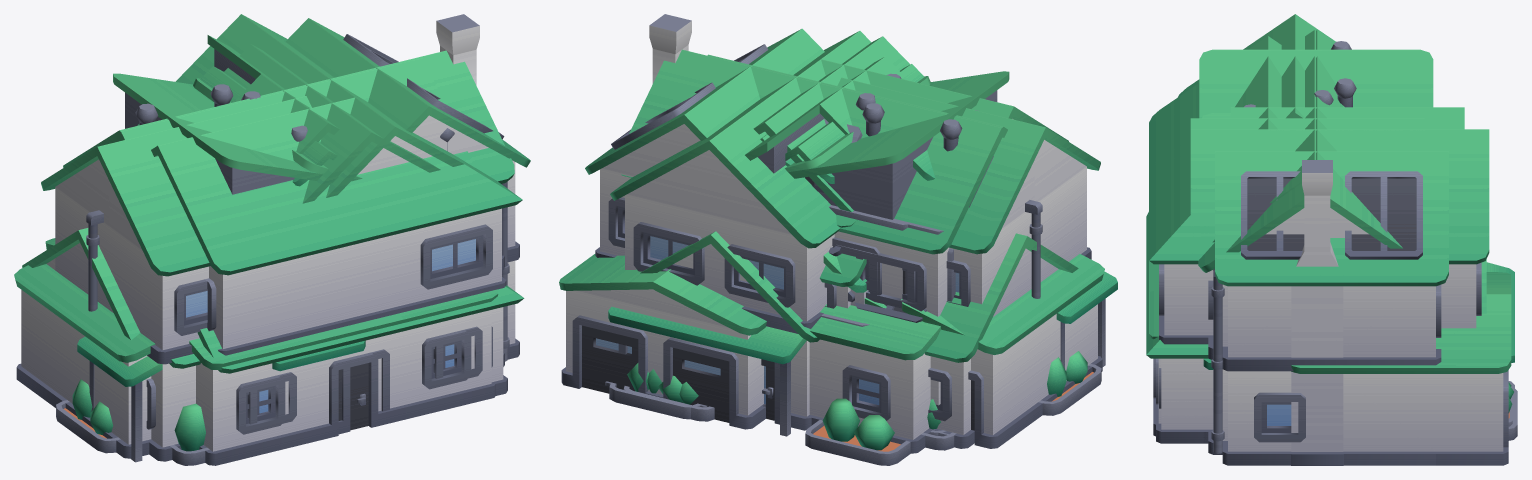
Rendered from kit-houses.glb.
The picture shows the model from 3 angles, left to right: view 1: azimuth 30°, elevation 25°; view 2: azimuth 150°, elevation 25°; view 3: azimuth 270°, elevation 25°; orthographic projection. The views are drawn at different scales.
Parts seen in each view (by area): view 1: building-type-f, building-type-t, building-type-n, building-type-d, building-type-b, building-type-m, building-type-k, building-type-u, building-type-s, building-type-r, building-type-e, building-type-l; view 2: building-type-n, building-type-f, building-type-d, building-type-t, building-type-b, building-type-e, building-type-k, building-type-m, building-type-r, building-type-s, building-type-u, building-type-o (+4 smaller); view 3: building-type-b, building-type-f, building-type-d, building-type-n, building-type-k, building-type-u, building-type-m, building-type-r, building-type-t, building-type-s, building-type-o, building-type-e.
Boxes of the visible parts, box(x1,y1,x2,y2) form: building-type-f: box(137, 14, 522, 465); building-type-t: box(45, 57, 498, 465); building-type-n: box(41, 96, 365, 462); building-type-d: box(14, 14, 514, 458); building-type-b: box(22, 18, 530, 453); building-type-m: box(197, 285, 524, 434); building-type-k: box(113, 73, 357, 194); building-type-u: box(263, 38, 495, 197); building-type-s: box(224, 44, 440, 203); building-type-r: box(207, 35, 339, 153); building-type-e: box(63, 56, 421, 167); building-type-l: box(193, 78, 362, 179); building-type-n: box(559, 77, 1117, 446); building-type-f: box(608, 59, 1068, 436); building-type-d: box(621, 14, 1104, 448); building-type-t: box(623, 54, 1007, 465); building-type-b: box(585, 28, 1101, 448); building-type-e: box(785, 110, 1007, 316); building-type-k: box(788, 71, 1009, 290); building-type-m: box(609, 231, 819, 419); building-type-r: box(745, 56, 908, 326); building-type-s: box(753, 36, 909, 211); building-type-u: box(720, 31, 956, 450); building-type-o: box(690, 56, 914, 220); building-type-b: box(1211, 151, 1448, 465); building-type-f: box(1149, 36, 1514, 443); building-type-d: box(1198, 47, 1402, 465); building-type-n: box(1178, 14, 1511, 465); building-type-k: box(1199, 49, 1433, 118); building-type-u: box(1190, 129, 1424, 443); building-type-m: box(1146, 212, 1517, 443); building-type-r: box(1230, 90, 1464, 129); building-type-t: box(1149, 30, 1514, 436); building-type-s: box(1190, 104, 1424, 369); building-type-o: box(1317, 72, 1357, 198); building-type-e: box(1316, 30, 1335, 159).
Size of the model in its own units: 1.83 by 1.24 by 1.43.
1 material, 1 textured.
